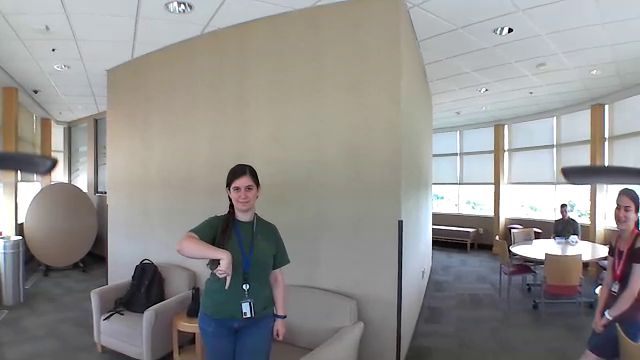down: (209, 245, 237, 294)
